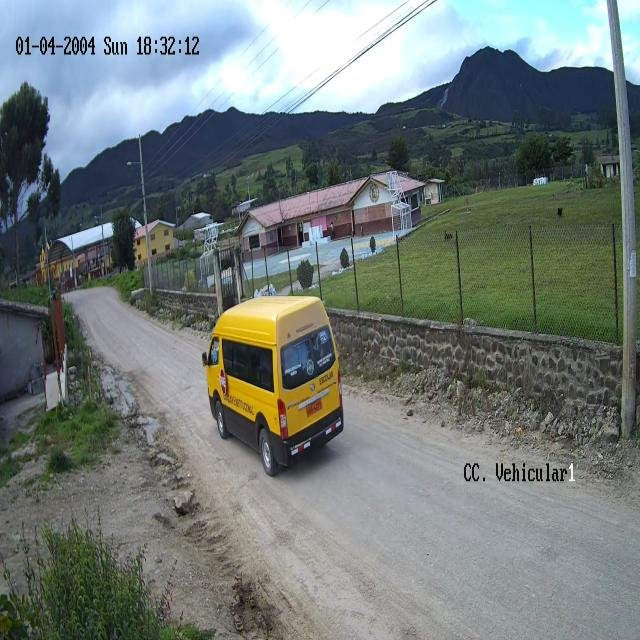BUS: (205, 296, 345, 476)
